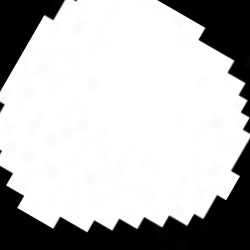spot: (1, 0, 248, 232)
